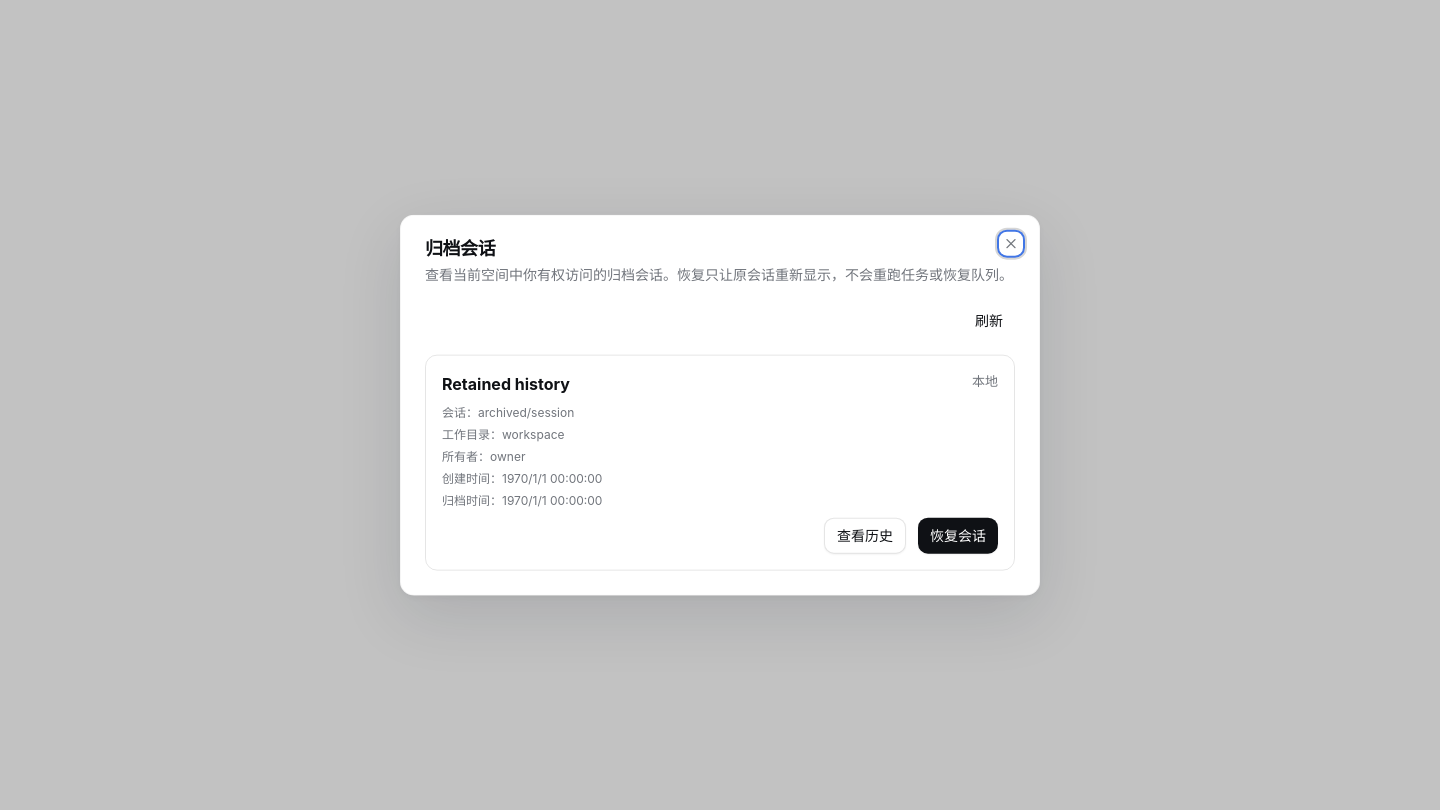
Scenario: keeps the archive row visible on permission or deletion failure
This screenshot has width=1440, height=810.
Click the button "恢复会话" at point(958, 535), box [918,517,998,553]
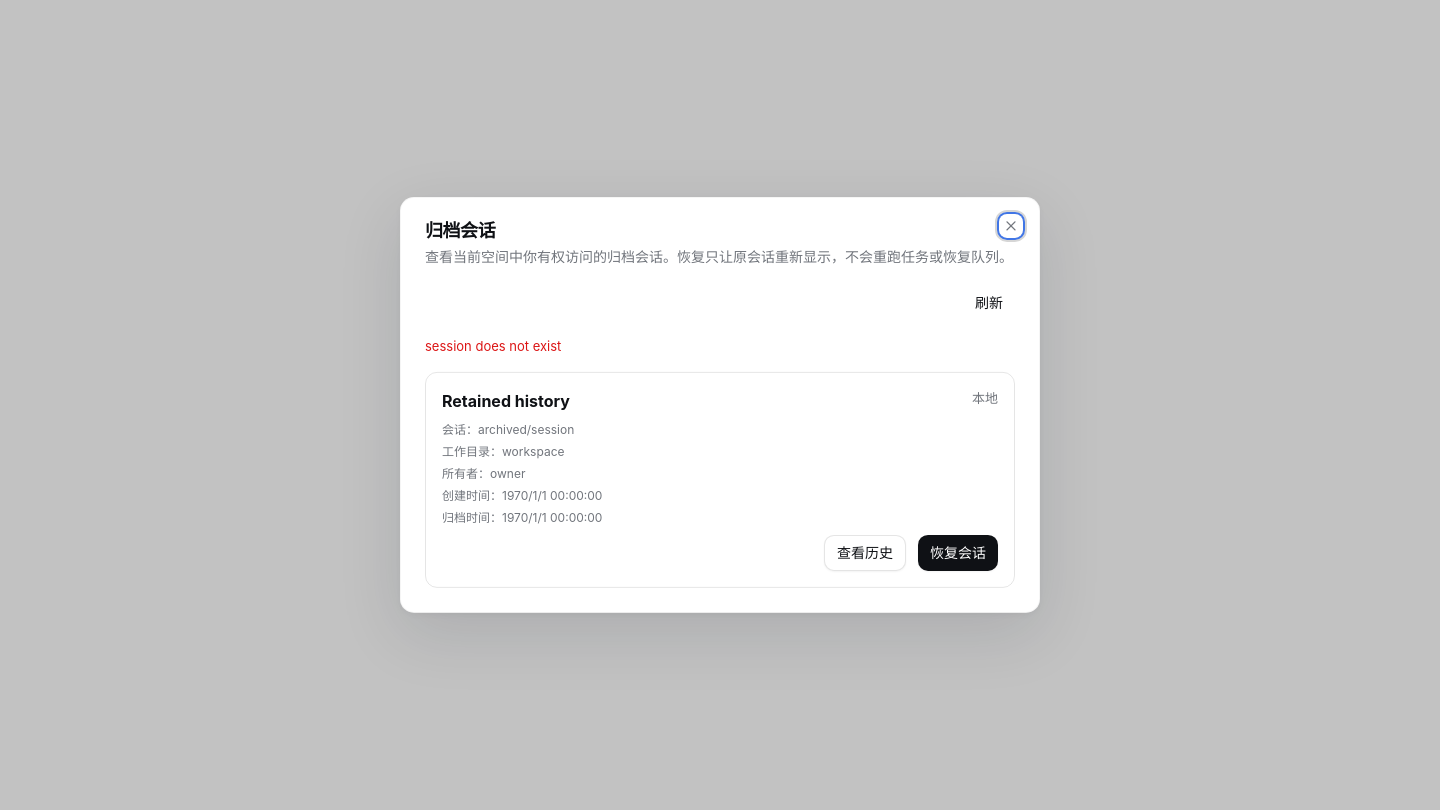
Check: the button "恢复会话" is enabled, box [918,535,998,571]
Check: the message "session does not exist" is shown, box [425,338,561,354]
